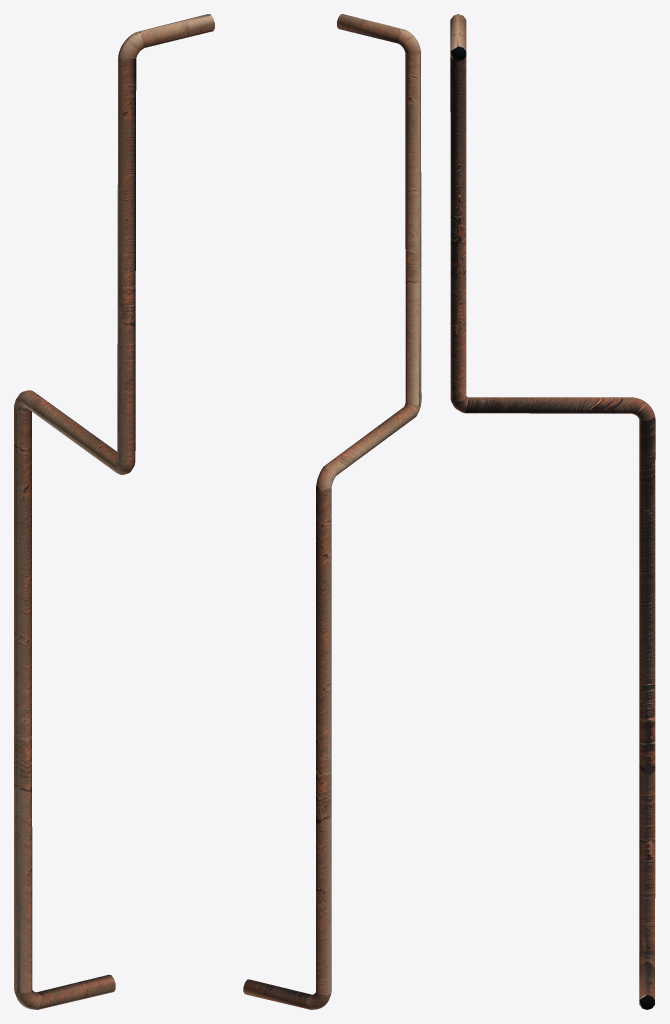
The model's file is wallPipe5_300.fbx.
The picture shows the model from 3 angles, left to right: view 1: azimuth 30°, elevation 25°; view 2: azimuth 150°, elevation 25°; view 3: azimuth 270°, elevation 25°; orthographic projection. The views are drawn at different scales.
Parts seen in each view (by area): view 1: pipeD200; view 2: pipeD200; view 3: pipeD200.
Part boxes in pixels (x1,y1,x2,y2): pipeD200: [14, 14, 214, 1009]; pipeD200: [243, 14, 421, 1009]; pipeD200: [450, 14, 655, 1009].
Size of the model in its own units: 0.5611 by 5.87 by 1.13.
